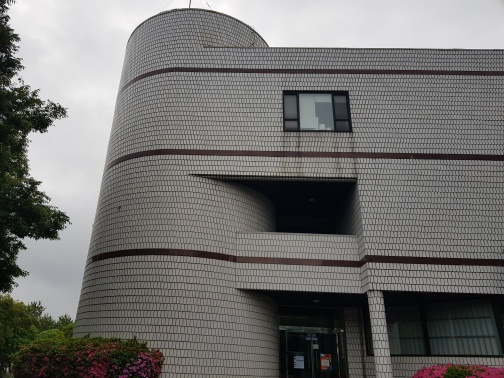Foreign Language Institute: (83, 13, 503, 357)
